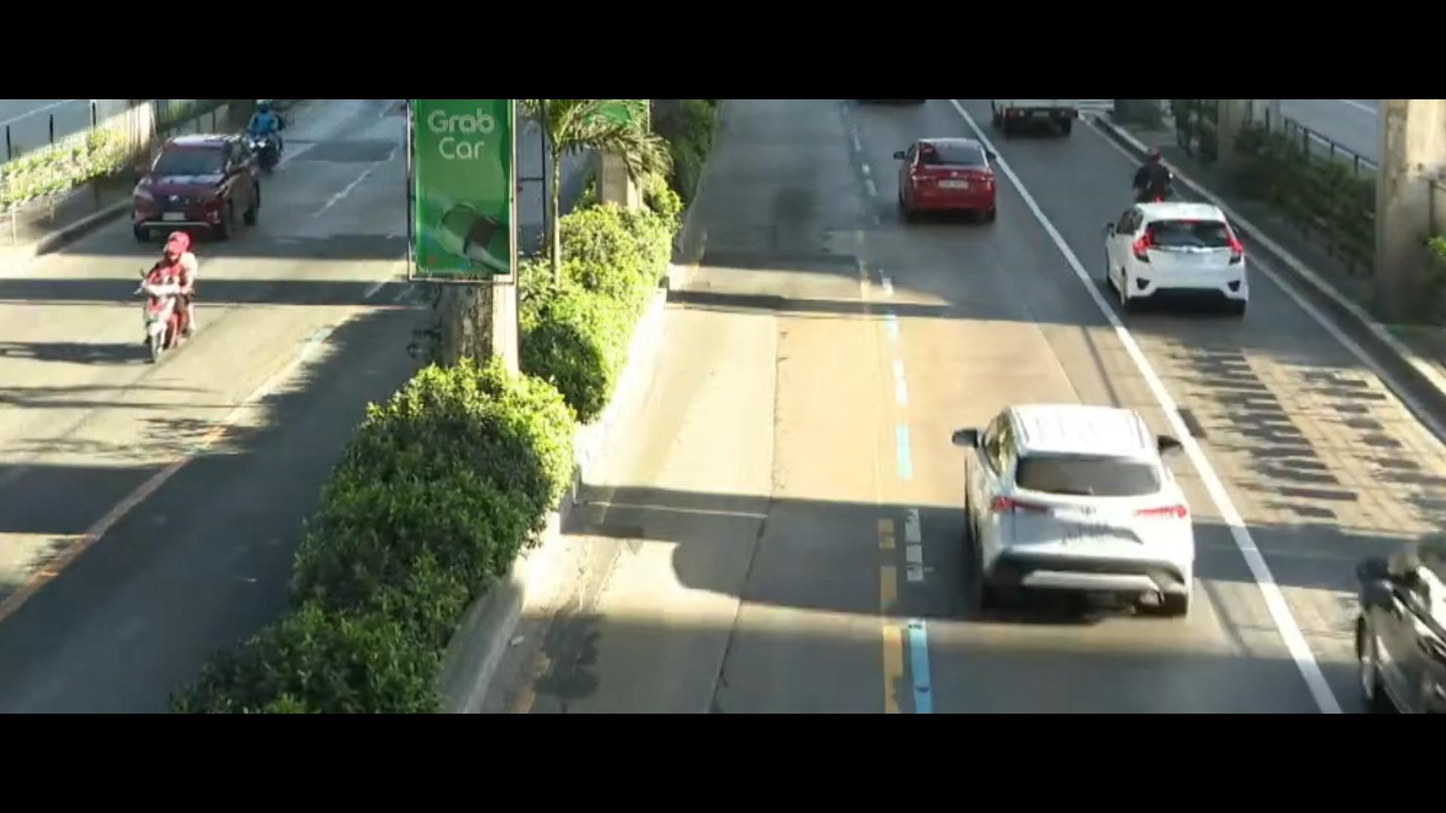Motorcycle: (122, 234, 209, 385), (1129, 145, 1183, 212), (247, 98, 285, 165)
SUV: (946, 377, 1199, 624), (1077, 181, 1270, 330), (123, 132, 292, 237)
Sedan: (901, 125, 1025, 230)
